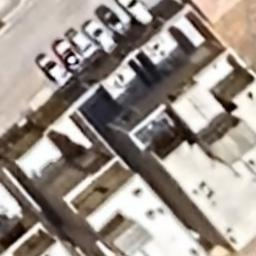SUV: (34, 51, 72, 90), (116, 0, 154, 26)
pickup: (63, 26, 101, 64)
sedan: (83, 20, 120, 58), (51, 38, 87, 76), (95, 4, 131, 40)
